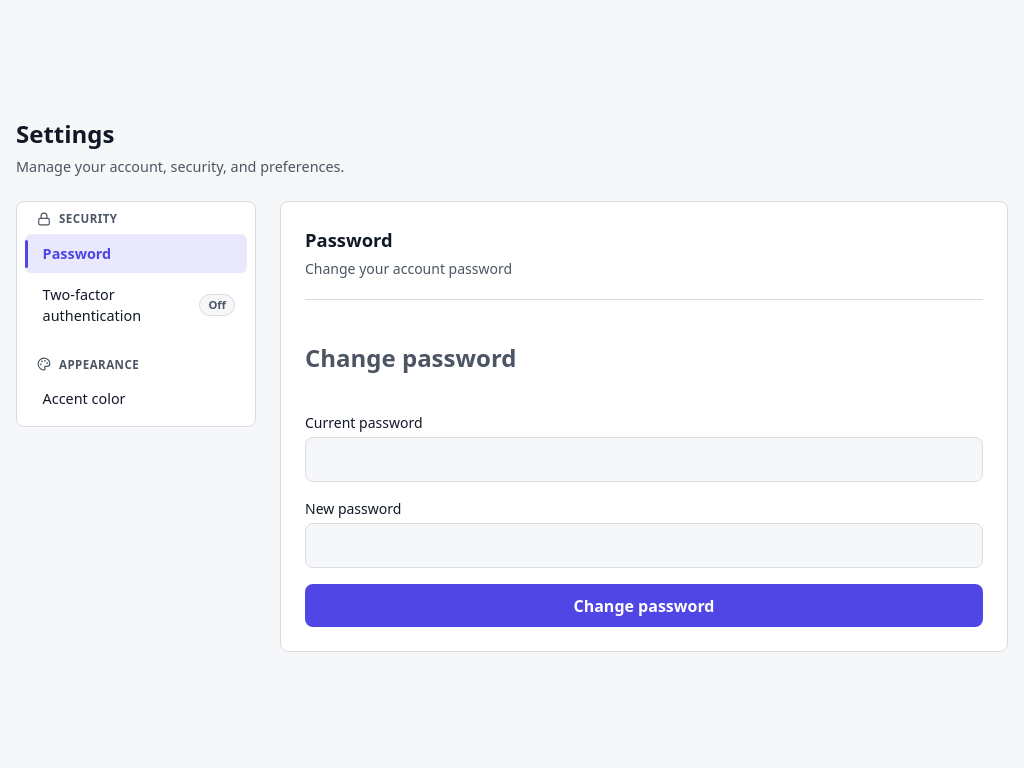
AccountPage › swaps the detail pane when a different setting is selected
Click the button "Two-factor authentication Off". click: (136, 305)
box: [25,275,247,336]
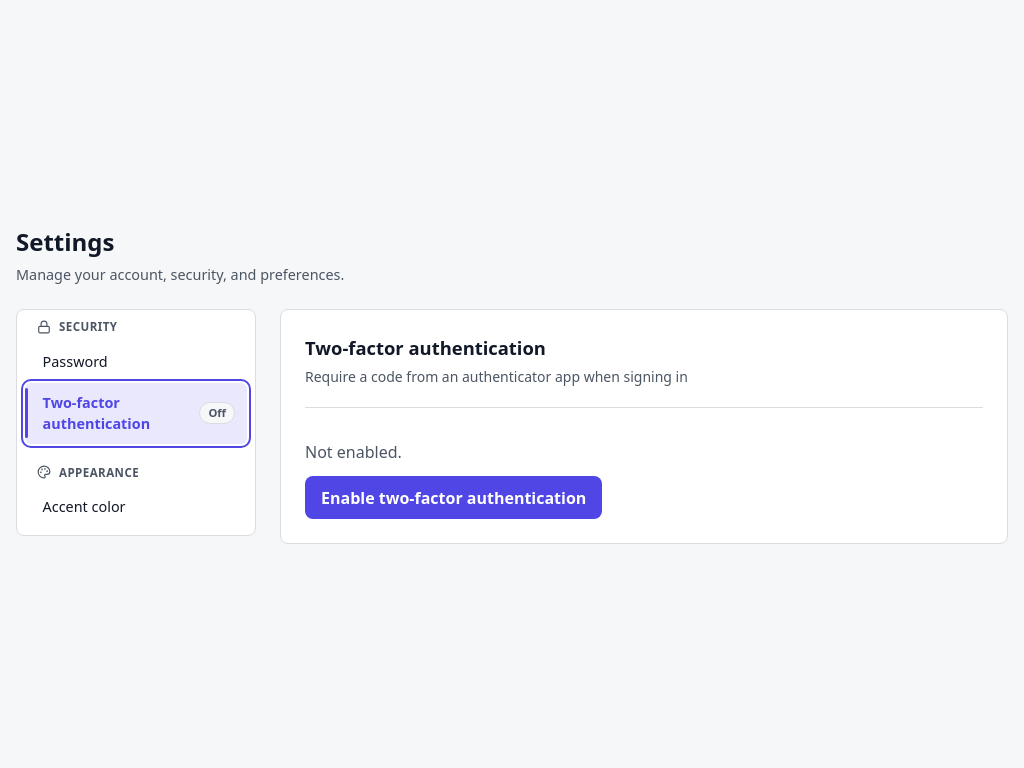
Check: the heading "Two-factor authentication" is shown, box [305,335,546,360]
